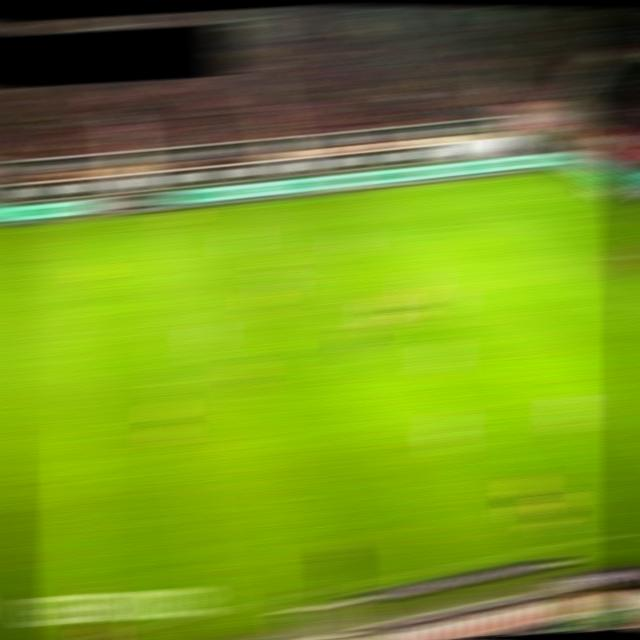bigarea_top_inner: (461, 213, 493, 224)
bigarea_top_outter: (597, 195, 628, 206)
bottom_arc_area_intersection: (587, 301, 623, 317)
corner: (539, 167, 571, 179)
halfcircle_bottom: (154, 375, 190, 391)
halfcircle_top: (136, 287, 170, 301)
midline_bottom_intersection: (200, 603, 236, 619)
midline_top_intersection: (122, 212, 153, 224)
smallarea_top_inner: (606, 230, 638, 241)
top_arc_area_intersection: (512, 249, 544, 261)
